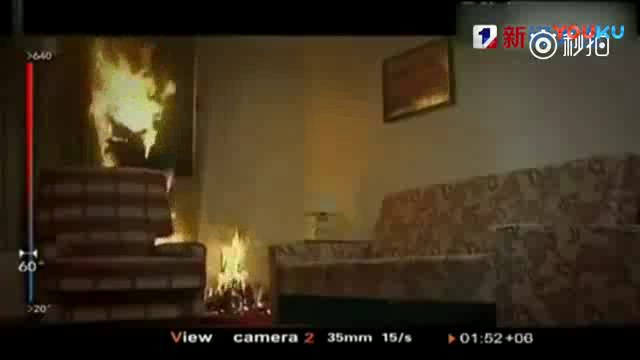fire: (87, 42, 172, 167), (208, 223, 262, 303)
